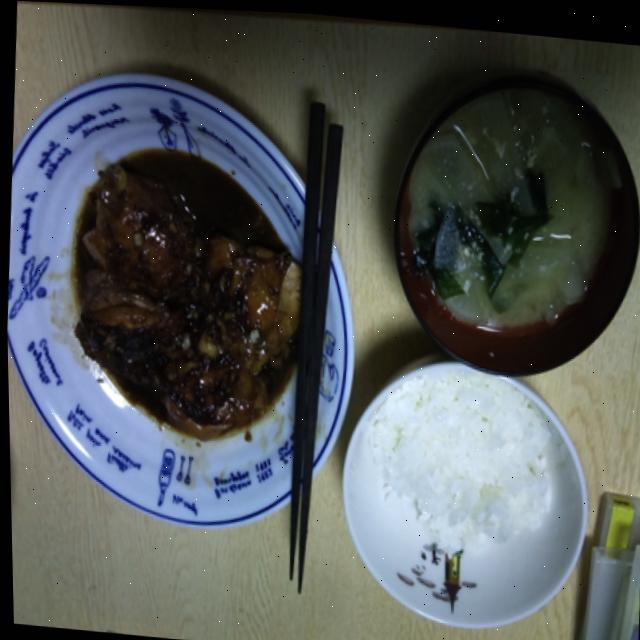米饭主食: (325, 323, 598, 640)
